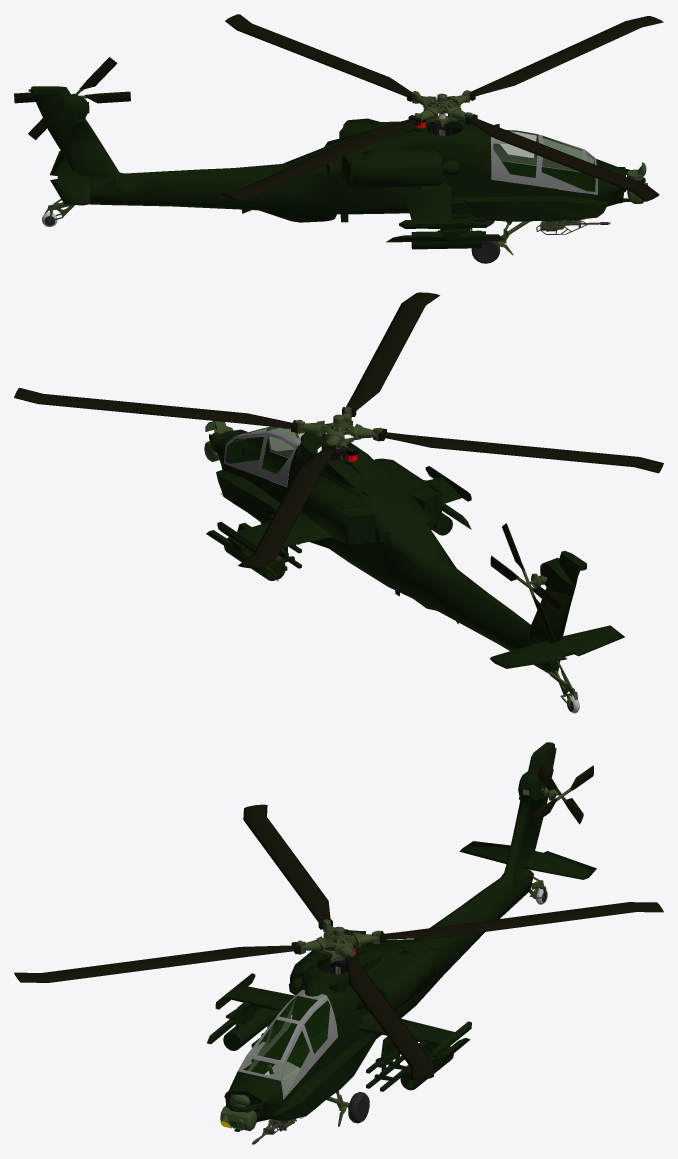
Rendered from Apatchi.FBX.
3 renders of one model, top to bottom at view 1: azimuth 30°, elevation 25°; view 2: azimuth 150°, elevation 25°; view 3: azimuth 270°, elevation 25°, orthographic. The views are drawn at different scales.
Visible parts, largest first — view 1: Apacfuse, ApacRot2, ApacfusT, Apacside, ApacGlas, ApacCono, ApacWing, ApacWin2, ApacRoto, ApacTrot, Apac70mm, ApacRwhe (+1 smaller); view 2: Apacfuse, ApacRot2, ApacfusT, ApacWin2, Apacside, ApacGlas, ApacCono, ApacWing, ApacRoto, ApacTrot, Apac70mm; view 3: Apacfuse, ApacRot2, Apacside, ApacfusT, ApacGlas, ApacCono, ApacWing, ApacWin2, ApacRoto, Apac70mm, ApacTrot, ApacRado.
Boxes of the visible parts, x1=… form: Apacfuse: x1=28, y1=86, x2=645, y2=242; ApacRot2: x1=221, y1=14, x2=663, y2=201; ApacfusT: x1=339, y1=118, x2=459, y2=189; Apacside: x1=451, y1=175, x2=607, y2=221; ApacGlas: x1=493, y1=130, x2=595, y2=191; ApacCono: x1=490, y1=130, x2=597, y2=194; ApacWing: x1=404, y1=181, x2=451, y2=219; ApacWin2: x1=50, y1=151, x2=92, y2=205; ApacRoto: x1=412, y1=90, x2=472, y2=127; ApacTrot: x1=14, y1=57, x2=130, y2=139; Apac70mm: x1=411, y1=228, x2=481, y2=249; ApacRwhe: x1=471, y1=241, x2=500, y2=263; Apacfuse: x1=206, y1=429, x2=586, y2=674; ApacRot2: x1=14, y1=292, x2=663, y2=568; ApacfusT: x1=289, y1=458, x2=441, y2=544; ApacWin2: x1=490, y1=625, x2=624, y2=668; Apacside: x1=216, y1=458, x2=330, y2=549; ApacGlas: x1=226, y1=427, x2=303, y2=473; ApacCono: x1=223, y1=426, x2=301, y2=486; ApacWing: x1=236, y1=477, x2=462, y2=547; ApacRoto: x1=295, y1=406, x2=382, y2=450; ApacTrot: x1=490, y1=523, x2=561, y2=643; Apac70mm: x1=224, y1=513, x2=452, y2=580; Apacfuse: x1=207, y1=742, x2=556, y2=1131; ApacRot2: x1=14, y1=804, x2=663, y2=1080; Apacside: x1=243, y1=1018, x2=376, y2=1121; ApacfusT: x1=289, y1=929, x2=436, y2=1011; ApacGlas: x1=242, y1=996, x2=329, y2=1094; ApacCono: x1=238, y1=990, x2=337, y2=1099; ApacWing: x1=228, y1=986, x2=454, y2=1045; ApacWin2: x1=459, y1=841, x2=596, y2=879; ApacRoto: x1=296, y1=919, x2=381, y2=962; Apac70mm: x1=223, y1=1007, x2=453, y2=1090; ApacTrot: x1=532, y1=764, x2=593, y2=824; ApacRado: x1=220, y1=1106, x2=257, y2=1131.
Bounding box in the file's own units: 4.48 × 1.35 × 3.98.
Materials: 23 (3 with a texture image).
